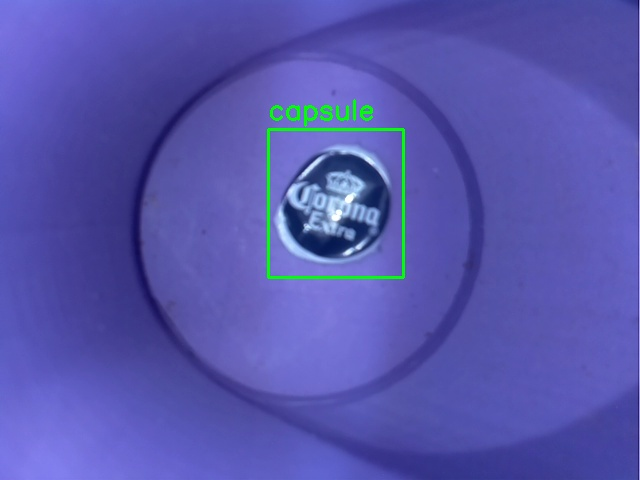capsule: (268, 129, 403, 277)
